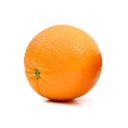orange: (24, 20, 103, 102)
